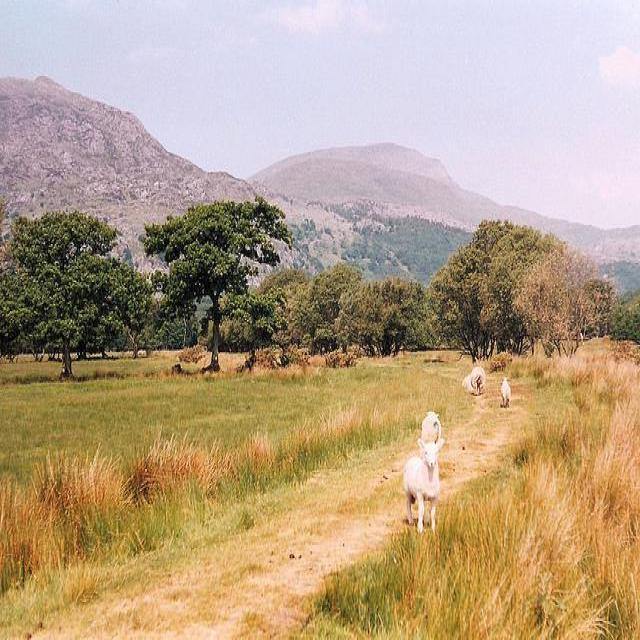Sheep: (405, 436, 447, 536)
